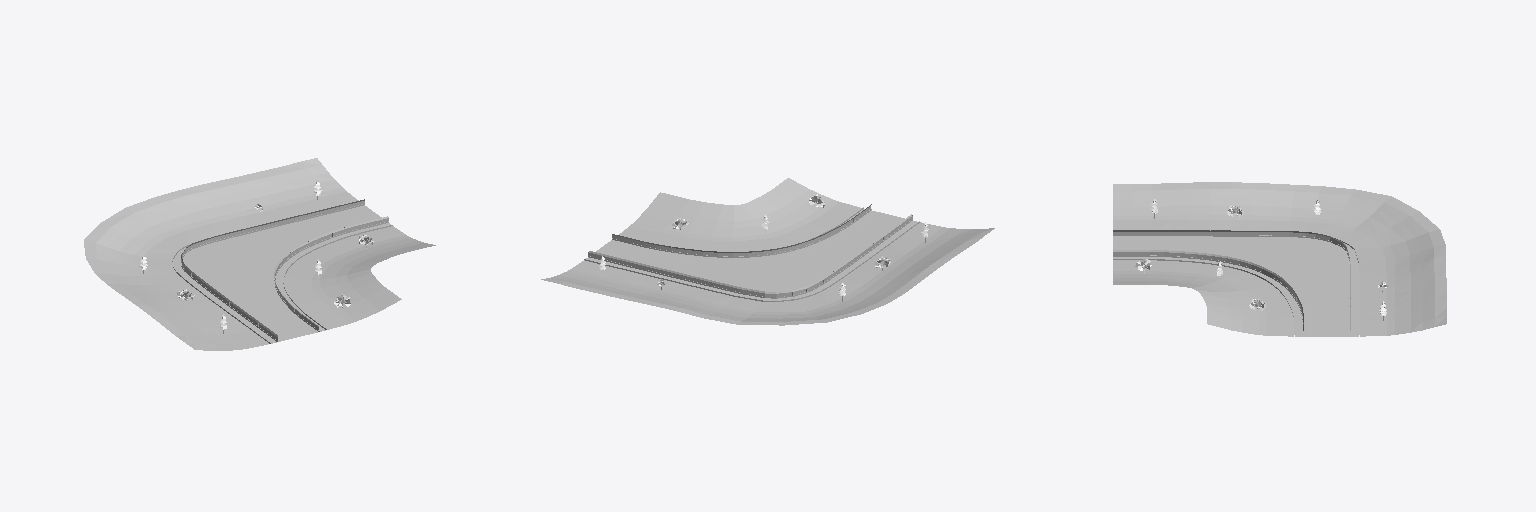
3 views of the same model, side by side, from view 1: azimuth 30°, elevation 25°; view 2: azimuth 150°, elevation 25°; view 3: azimuth 270°, elevation 25° (orthographic).
Visible parts, largest first — view 1: Grass_Grass.002, Road_Road.002, Track_Track.005, Wirefence_Wirefence.002, Trees_Trees.002; view 2: Grass_Grass.002, Road_Road.002, Track_Track.005, Wirefence_Wirefence.002, Trees_Trees.002; view 3: Grass_Grass.002, Road_Road.002, Track_Track.005, Wirefence_Wirefence.002, Trees_Trees.002.
Boxes of the visible parts, box(x1,y1,x2,y2) form: Grass_Grass.002: box(84, 158, 435, 350); Road_Road.002: box(236, 209, 381, 339); Track_Track.005: box(172, 203, 392, 343); Wirefence_Wirefence.002: box(181, 199, 388, 340); Trees_Trees.002: box(139, 180, 373, 333); Grass_Grass.002: box(541, 178, 994, 325); Road_Road.002: box(596, 212, 904, 273); Track_Track.005: box(584, 207, 919, 301); Wirefence_Wirefence.002: box(588, 204, 912, 296); Trees_Trees.002: box(599, 194, 928, 301); Grass_Grass.002: box(1113, 182, 1446, 336); Road_Road.002: box(1113, 240, 1341, 336); Track_Track.005: box(1113, 230, 1359, 336); Wirefence_Wirefence.002: box(1114, 230, 1350, 330); Trees_Trees.002: box(1135, 199, 1387, 320).
Bounding box in the file's own units: 1170 × 91.13 × 1170.